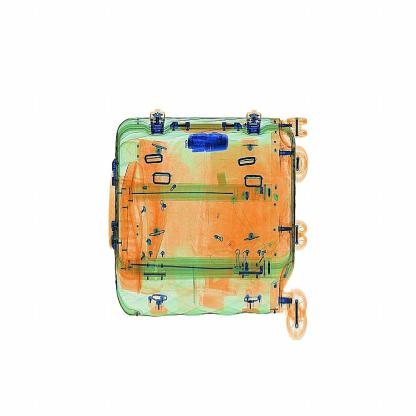scissors: (174, 122, 236, 163)
